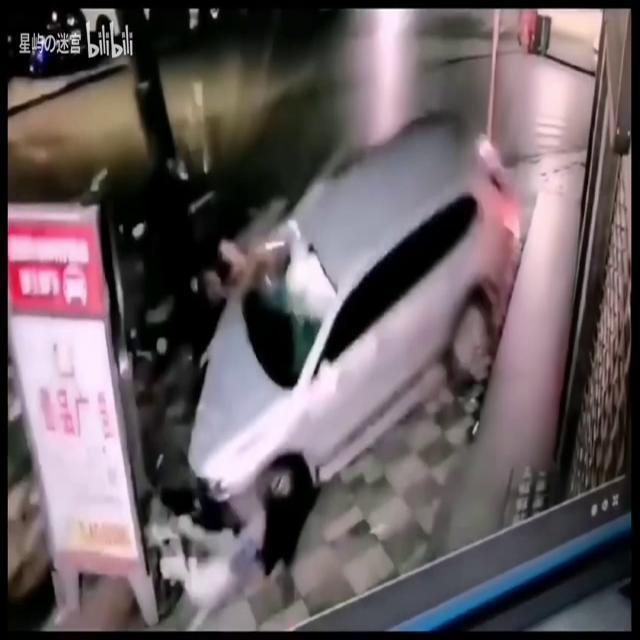accident: (5, 110, 525, 628)
